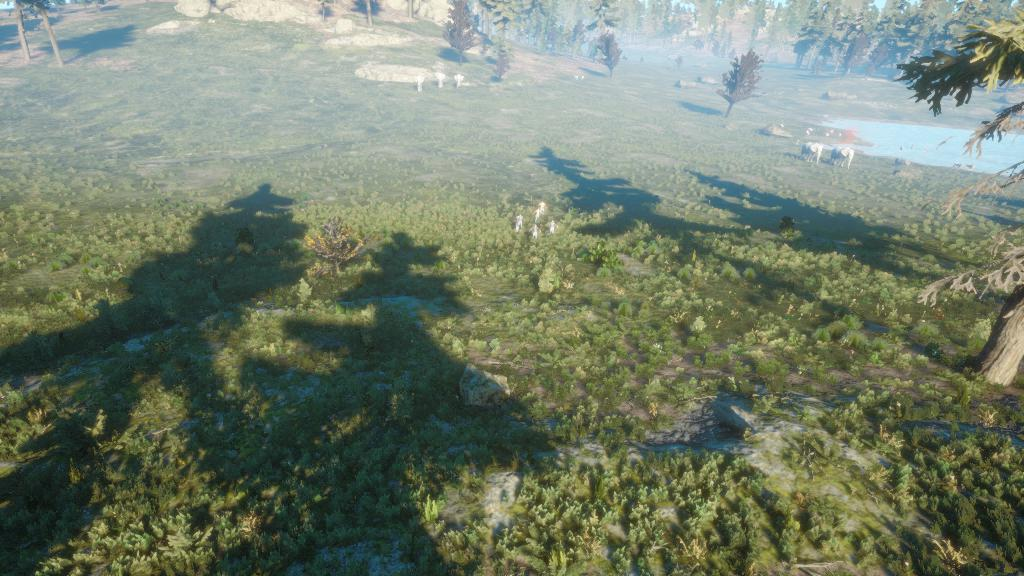elephant: (799, 140, 829, 164), (828, 147, 855, 169)
human: (530, 225, 540, 240), (515, 214, 524, 230), (533, 208, 542, 223), (538, 201, 547, 213), (549, 220, 556, 235)
